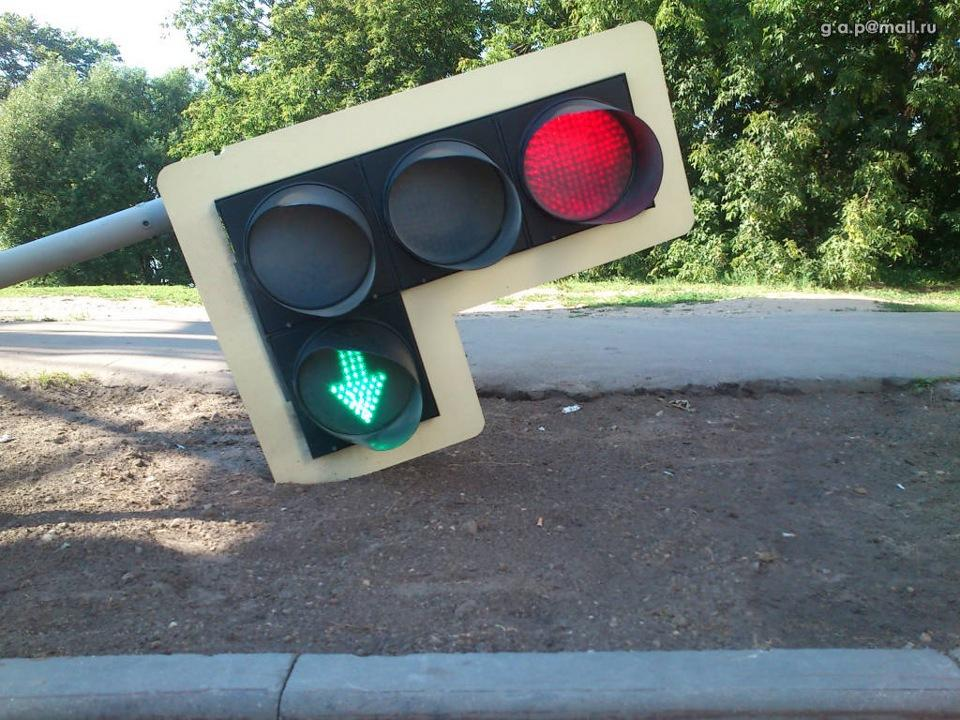traffic light: (215, 73, 663, 459)
